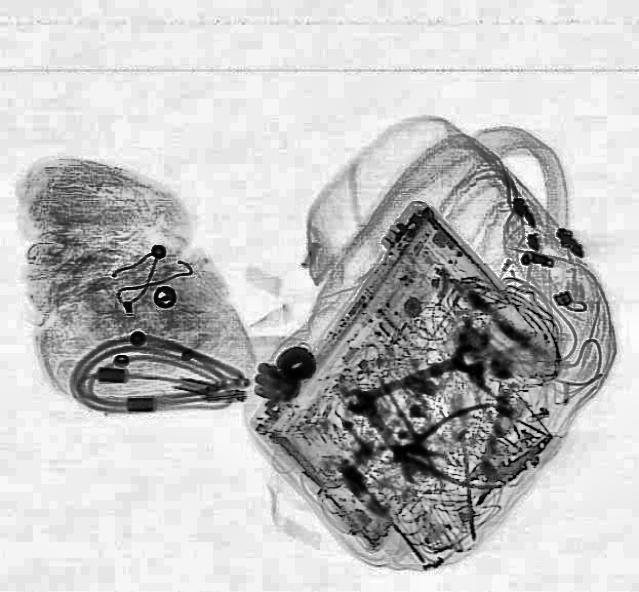Pliers: (379, 402, 507, 492)
Wrench: (342, 340, 484, 418), (338, 386, 436, 491)
